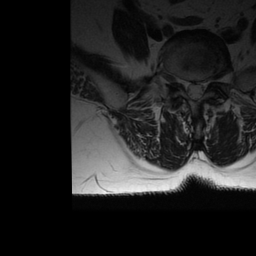CCS_normal: (191, 73, 198, 108)
LFS_stenosis: (206, 65, 215, 91)
LLS_normal: (198, 72, 206, 101)
RFS_stenosis: (176, 67, 183, 92)
RLS_normal: (183, 72, 191, 104)
